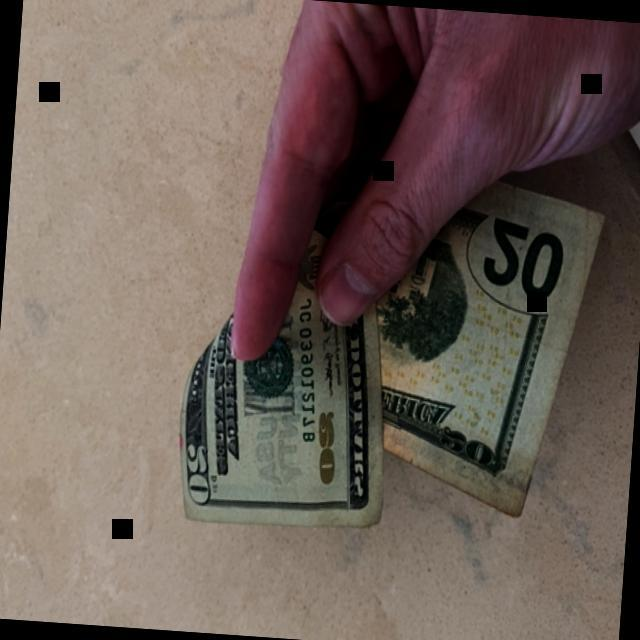twenty: (179, 179, 607, 529)
